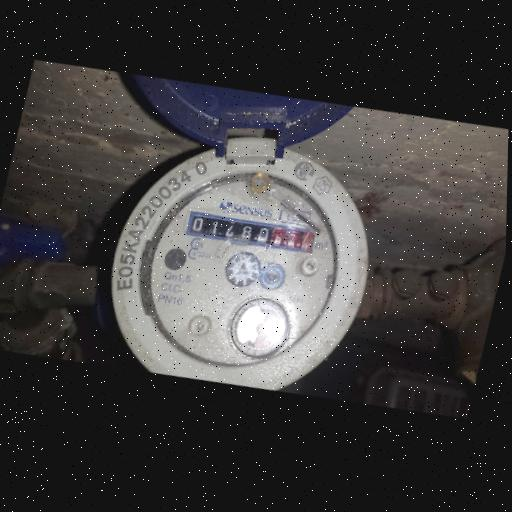0: (253, 223, 272, 244), (189, 213, 206, 235)
1: (203, 215, 221, 237)
4: (217, 218, 238, 239)
6: (269, 225, 288, 247)
7: (285, 228, 303, 248), (299, 230, 315, 250)
8: (234, 220, 256, 242)
border_water_meter_number: (184, 202, 318, 262)
